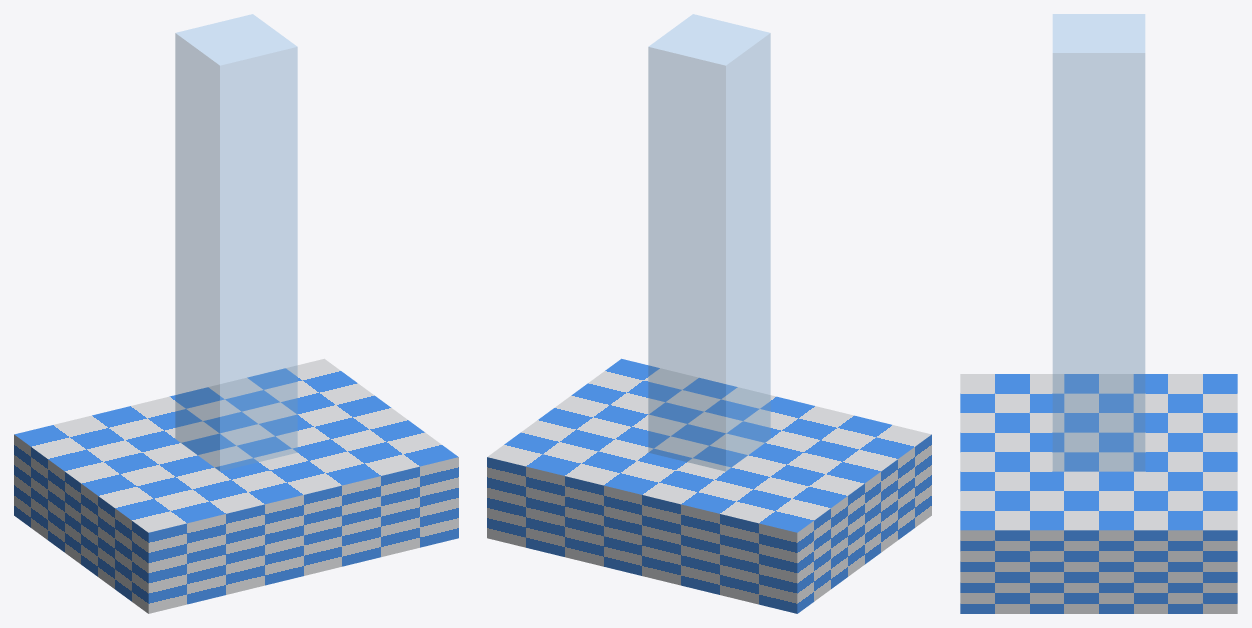
3 renders of one model, left to right at view 1: azimuth 30°, elevation 25°; view 2: azimuth 150°, elevation 25°; view 3: azimuth 270°, elevation 25°, orthographic. The views are drawn at different scales.
Visible parts, largest first — view 1: Base, Post; view 2: Base, Post; view 3: Base, Post.
Part boxes in pixels (box(x1,y1,x2,y2)): Base: box(14, 358, 458, 613); Post: box(175, 14, 297, 471); Base: box(487, 358, 931, 613); Post: box(648, 14, 770, 471); Base: box(960, 374, 1237, 613); Post: box(1053, 14, 1144, 471).
Bounding box in the file's own units: 40 × 60 × 30.
2 materials, 1 textured.
